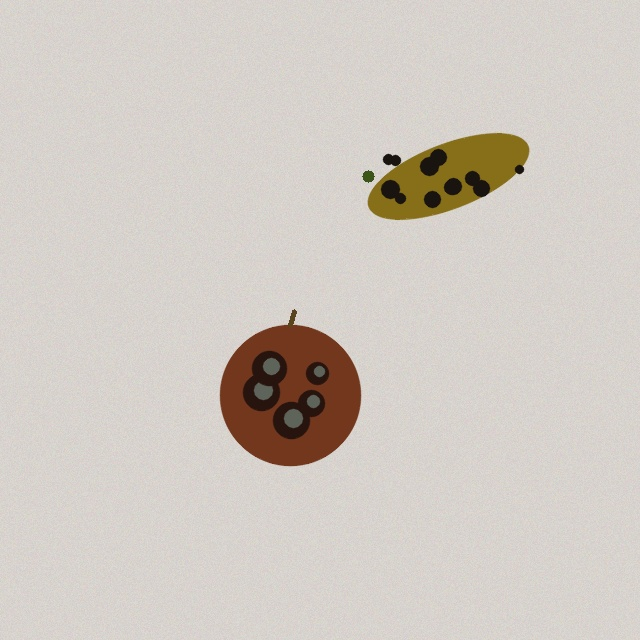Rotten apple: (220, 311, 360, 465)
Rotten banana: (359, 136, 537, 216)
